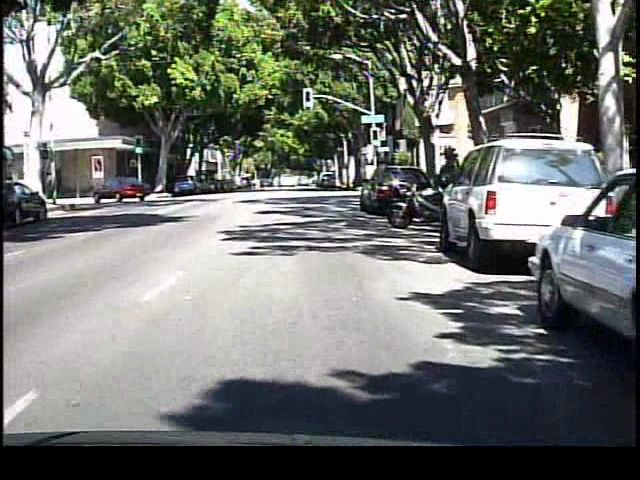person: (436, 134, 473, 237)
